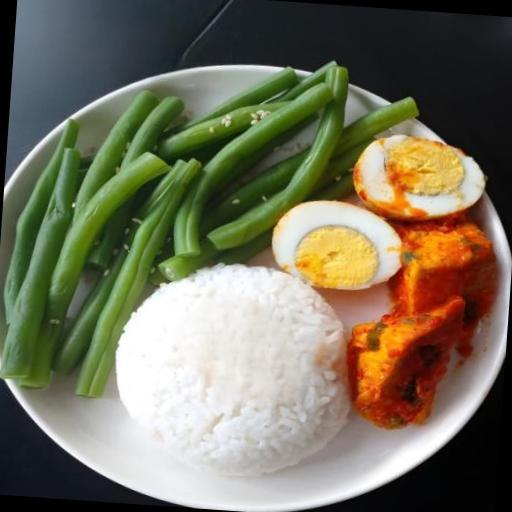buncis_rebus: (2, 4, 288, 257)
nasi_putih: (130, 282, 353, 496)
